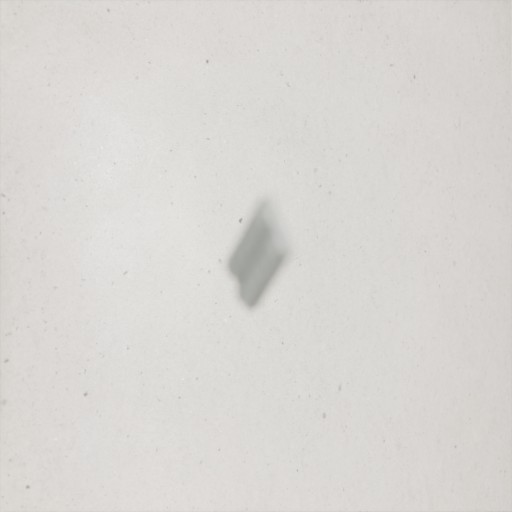lego: (224, 192, 296, 313)
